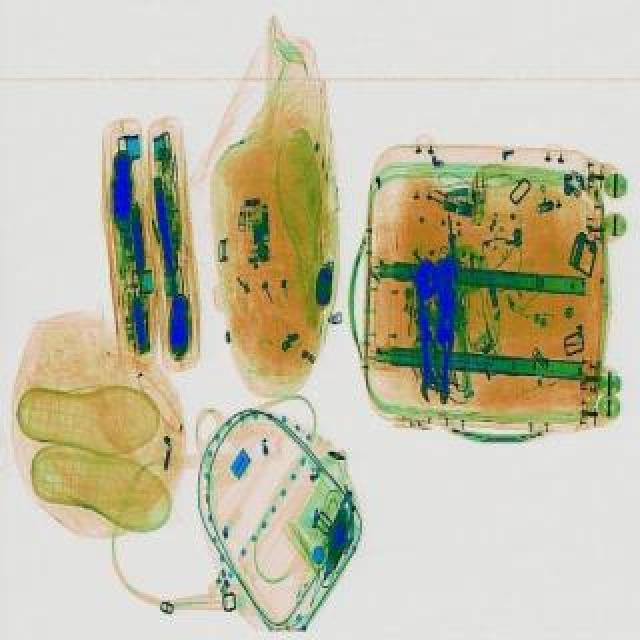scissors: (408, 252, 444, 400)
